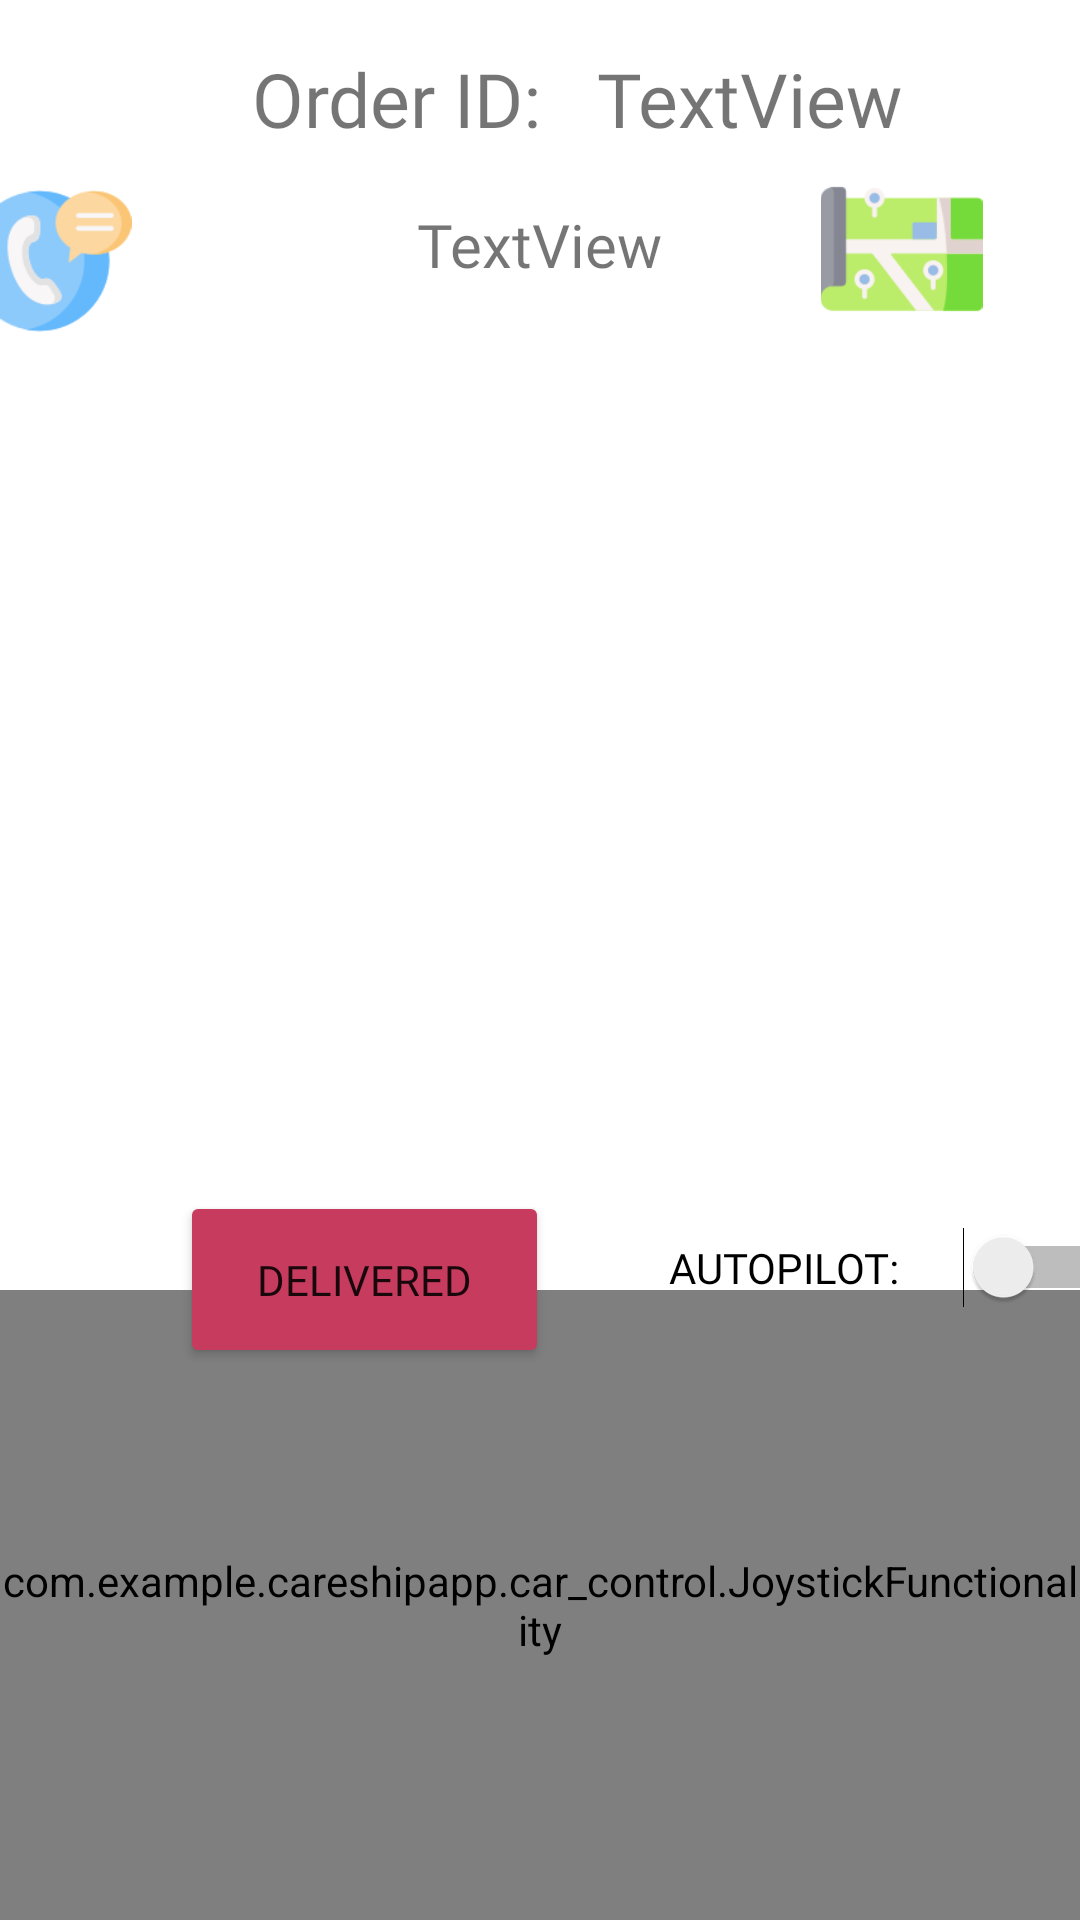

Named icons in this screenshot (1080 x 1920) and their bounding boxes, (x1, y1, x2, y2):
map: (821, 187, 983, 311)
